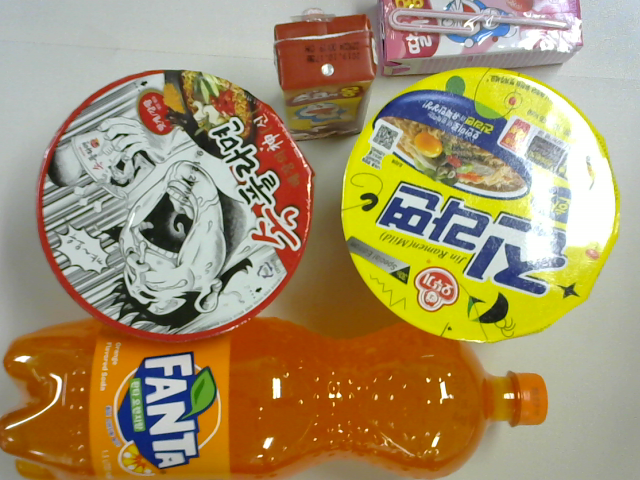Choco_E_Mong: (257, 10, 377, 135)
Hejangpul: (39, 57, 307, 318)
Hwanta_Orange_1.5L: (8, 319, 551, 480)
Jinlamyeon_Mild_Taste_Large_Cup: (355, 67, 608, 340)
Strawberry_E_Mong: (375, 1, 610, 84)
